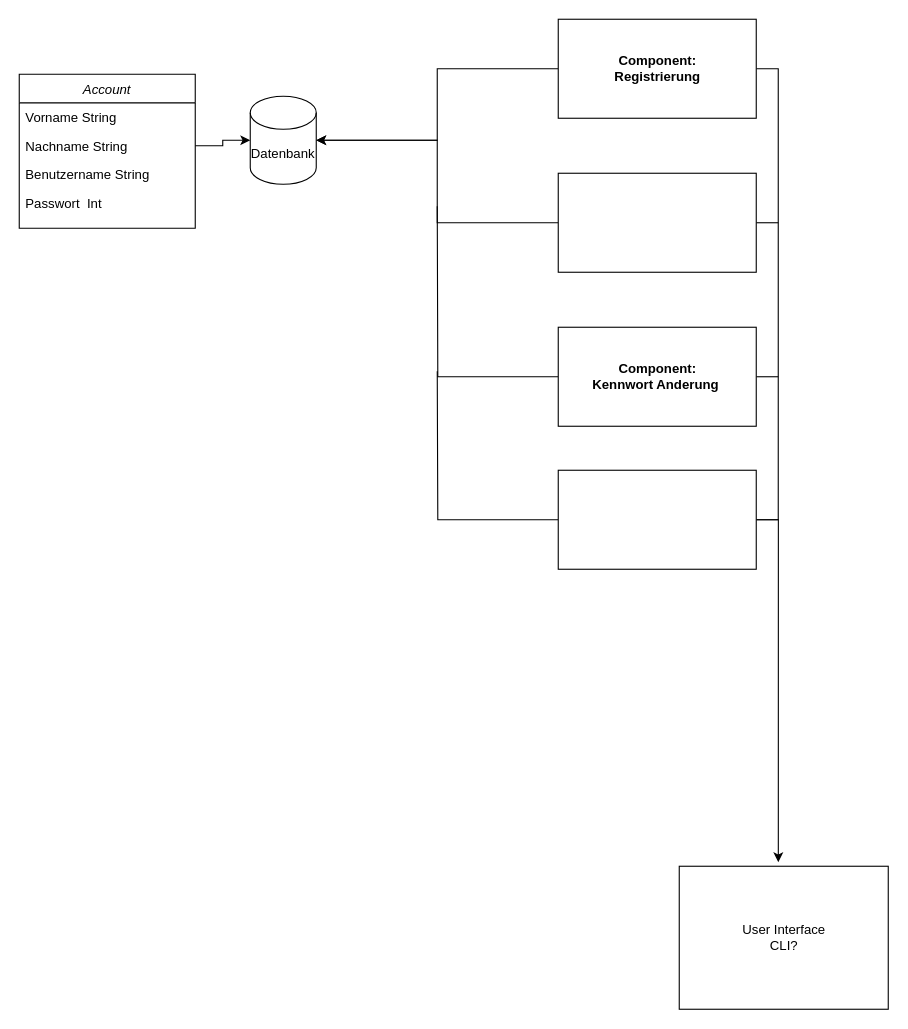
Image size: 908x1029. Some labels were removed from this diagram. Each missing label, with the centre of its shape:
"Component: An- und Abmeldung" belongs at [656,222].
"Component: Löschung" belongs at [656,519].
